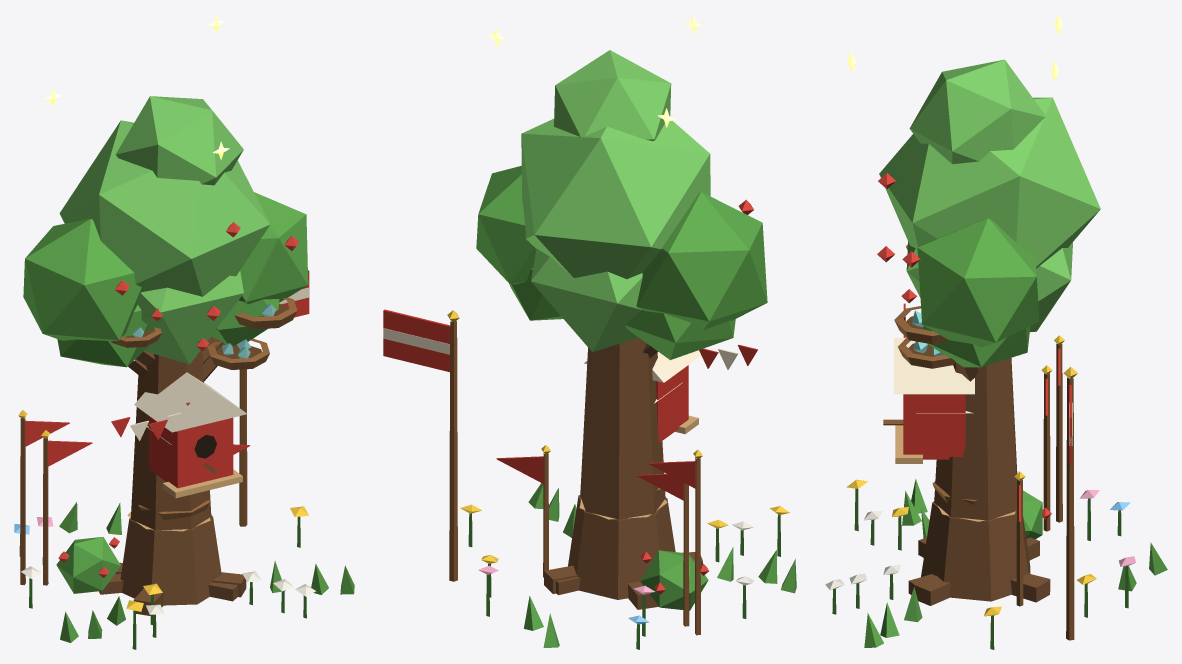
Rendered from robin-nest-grove.glb.
3 views of the same model, side by side, from view 1: azimuth 30°, elevation 25°; view 2: azimuth 150°, elevation 25°; view 3: azimuth 270°, elevation 25° (orthographic). The views are drawn at different scales.
Visible parts, largest first — view 1: lv3, lv2, lv1; view 2: lv3, lv2, lv1; view 3: lv3, lv1, lv2.
Part boxes in pixels (box(x1,y1,x2,y2)): lv3: box(14, 14, 354, 649); lv2: box(36, 270, 328, 638); lv1: box(56, 444, 285, 625); lv3: box(383, 14, 796, 649); lv2: box(481, 248, 777, 636); lv1: box(496, 445, 733, 610); lv3: box(825, 14, 1167, 649); lv1: box(883, 471, 1051, 622); lv2: box(849, 241, 1136, 637).
Size of the model in its own units: 1.7 by 2.69 by 1.49.
